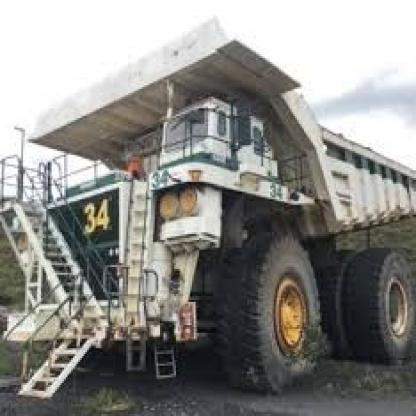dump_truck: (20, 31, 414, 414)
